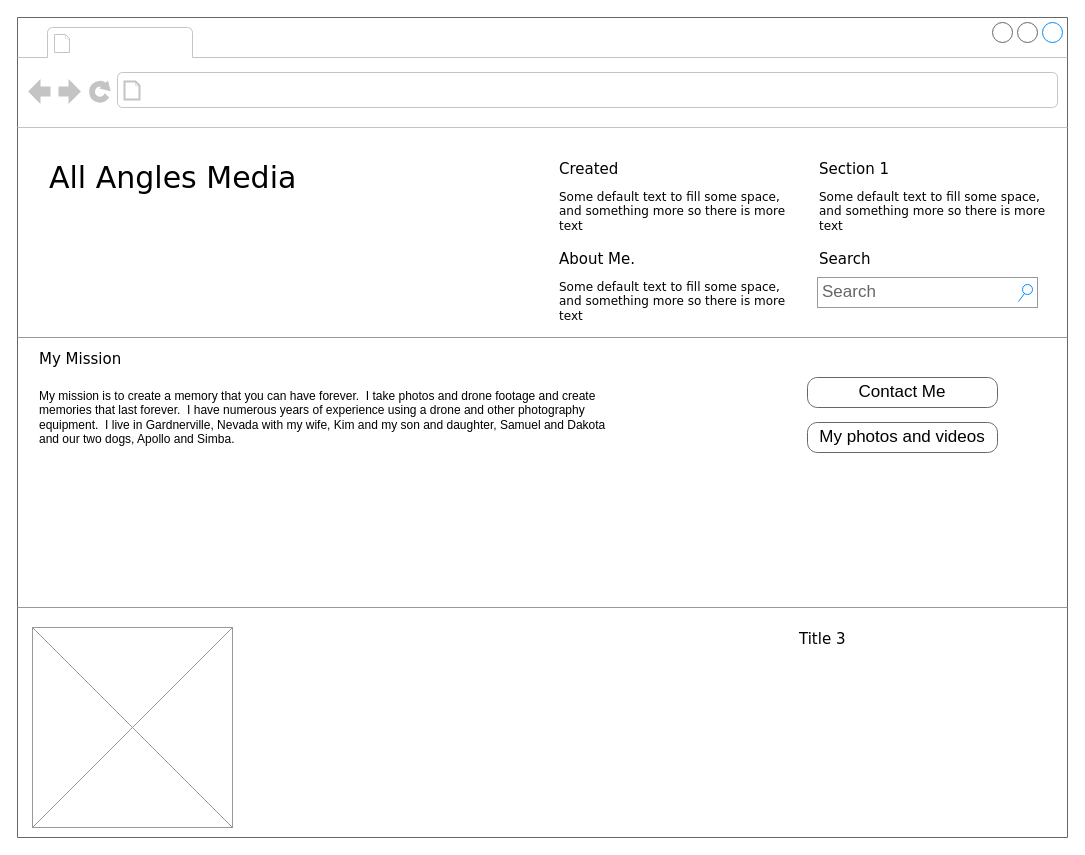
Image size: 1085x855. Some labels were removed from this diagram. Here are the shapes that lost their labels. From the top down, the centre of each, then its label:
[132,42]: Page 1
[272,90]: https://www.default.com
